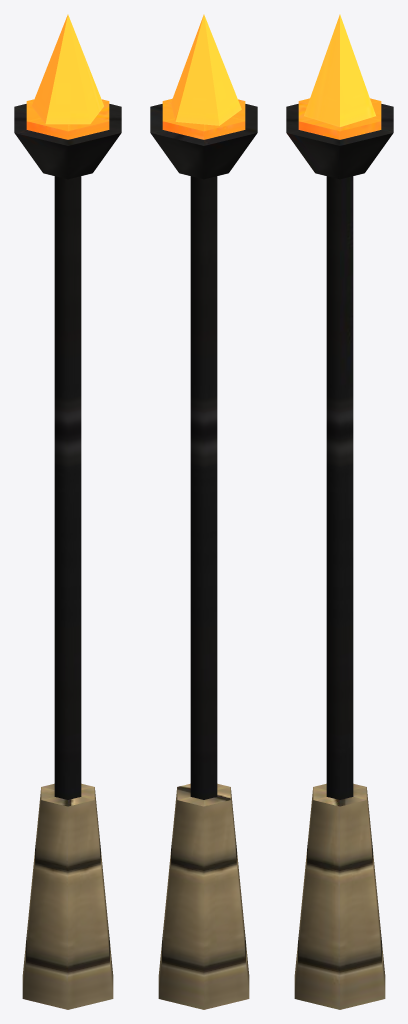
Rendered from torch_post.glb.
The picture shows the model from 3 angles, left to right: view 1: azimuth 90°, elevation 25°; view 2: azimuth 150°, elevation 25°; view 3: azimuth 270°, elevation 25°; orthographic projection.
Visible parts, largest first — view 1: props_0_0; view 2: props_0_0; view 3: props_0_0.
Part boxes in pixels (left/top/right/bottom): props_0_0: left=14, top=14, right=121, bottom=1009; props_0_0: left=150, top=14, right=257, bottom=1009; props_0_0: left=286, top=14, right=393, bottom=1009.
Size of the model in its own units: 0.52 by 4.51 by 0.4503.
Materials: 2 (2 with a texture image).
